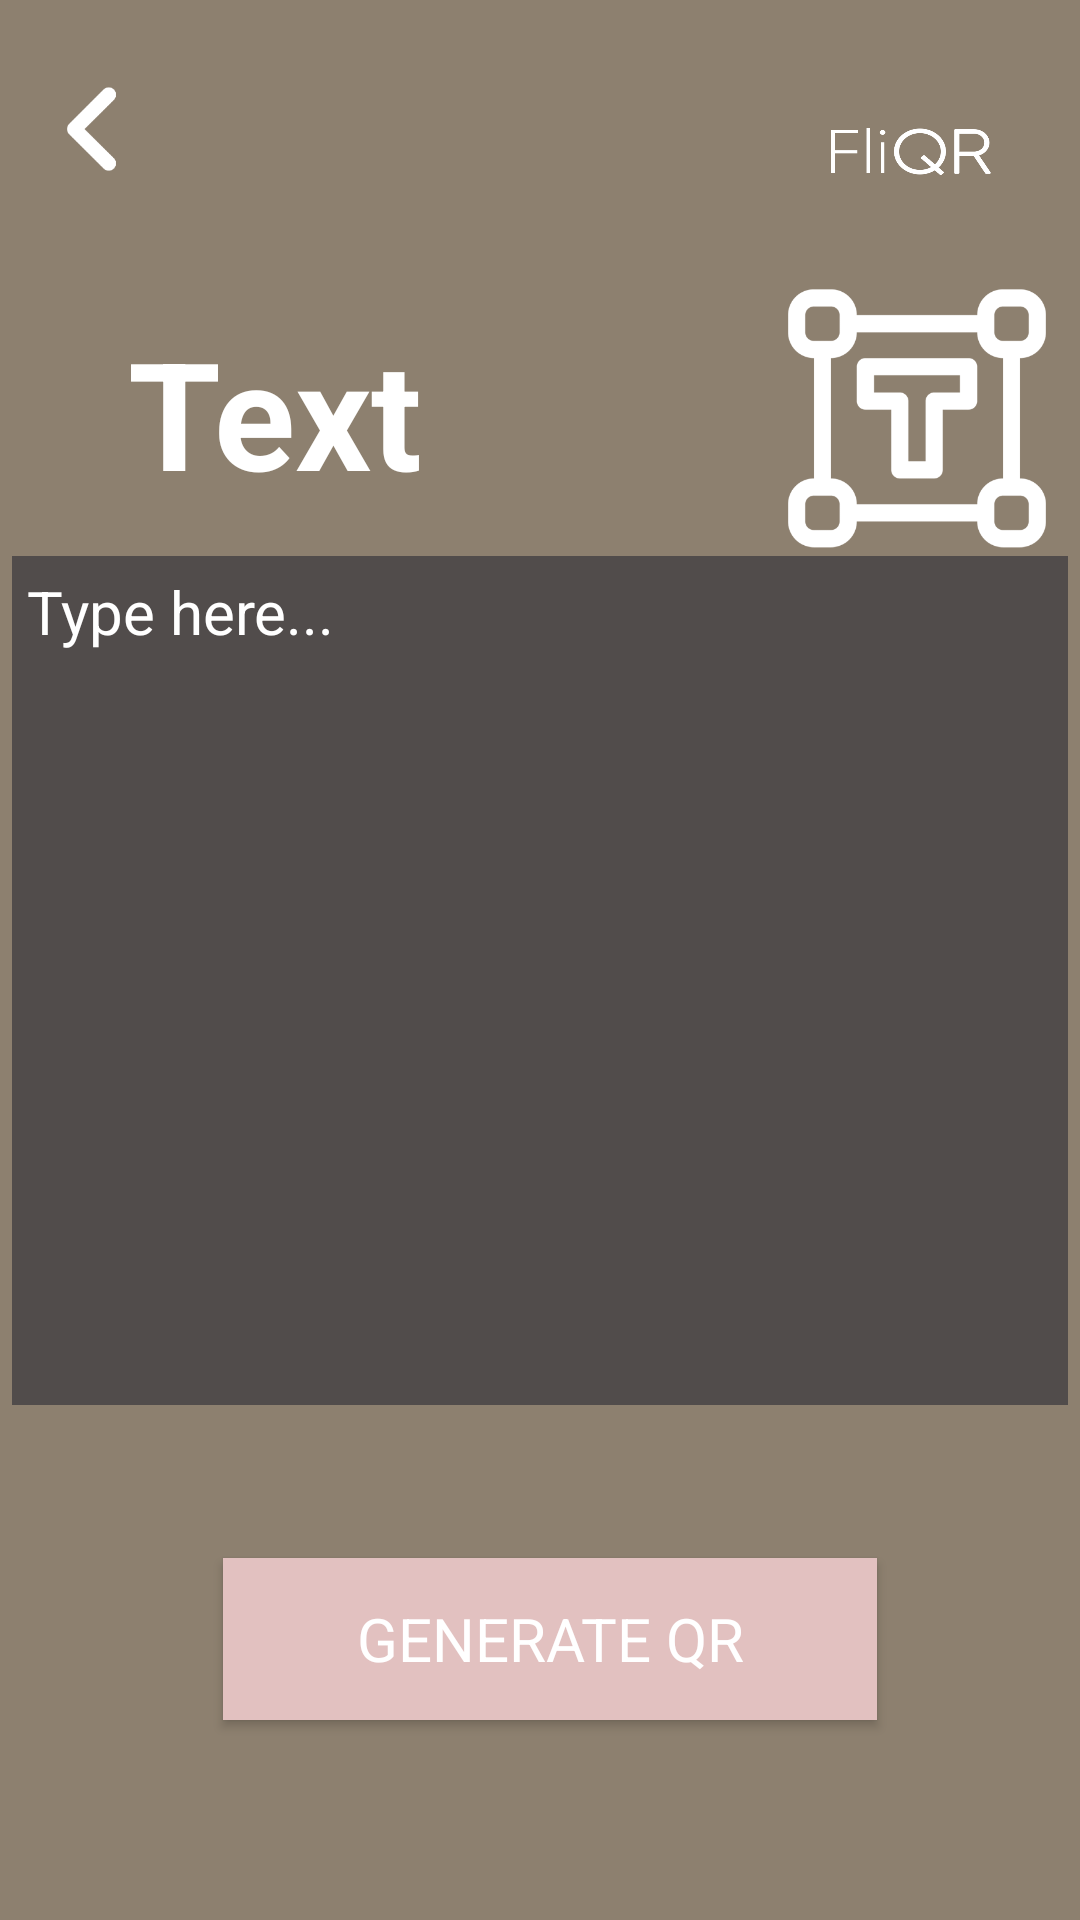

Where to tap for icons on this 1080 × 1920 app screen, as (x=x, y=y):
back: (x=91, y=129)
